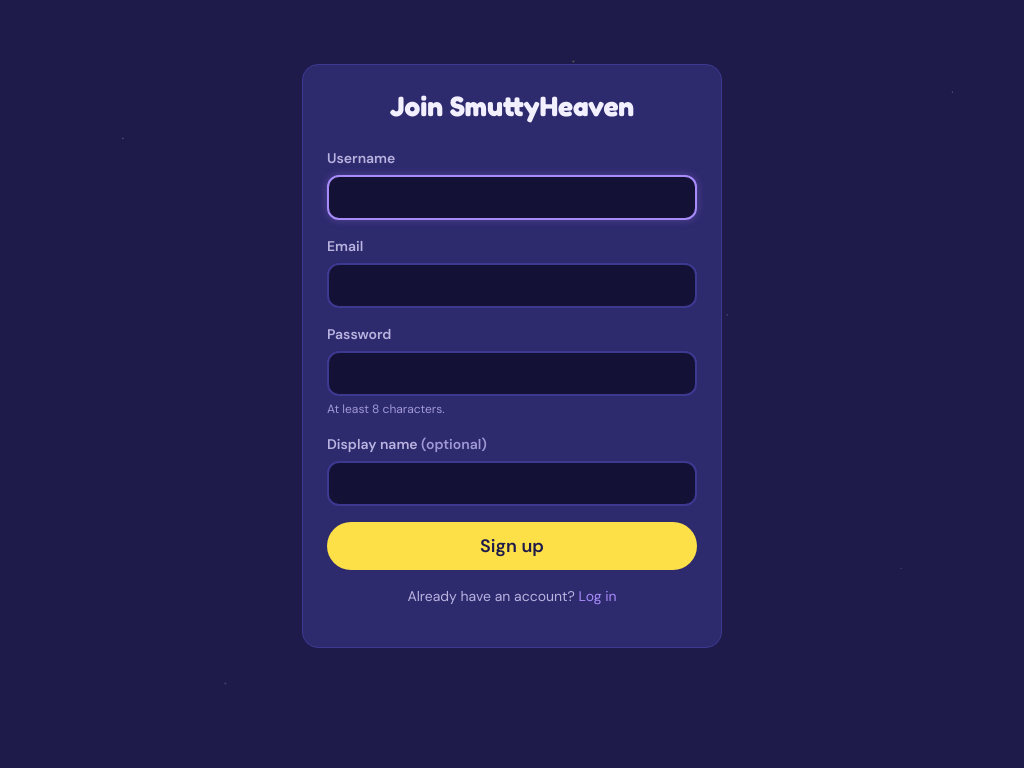
Test: RegisterPage validation › rejects usernames with characters outside the allowed set
The image size is (1024, 768).
Type "bad!name" into the field labelled "Username".
click(512, 198); type("bad!name")  # box [327,175,697,220]
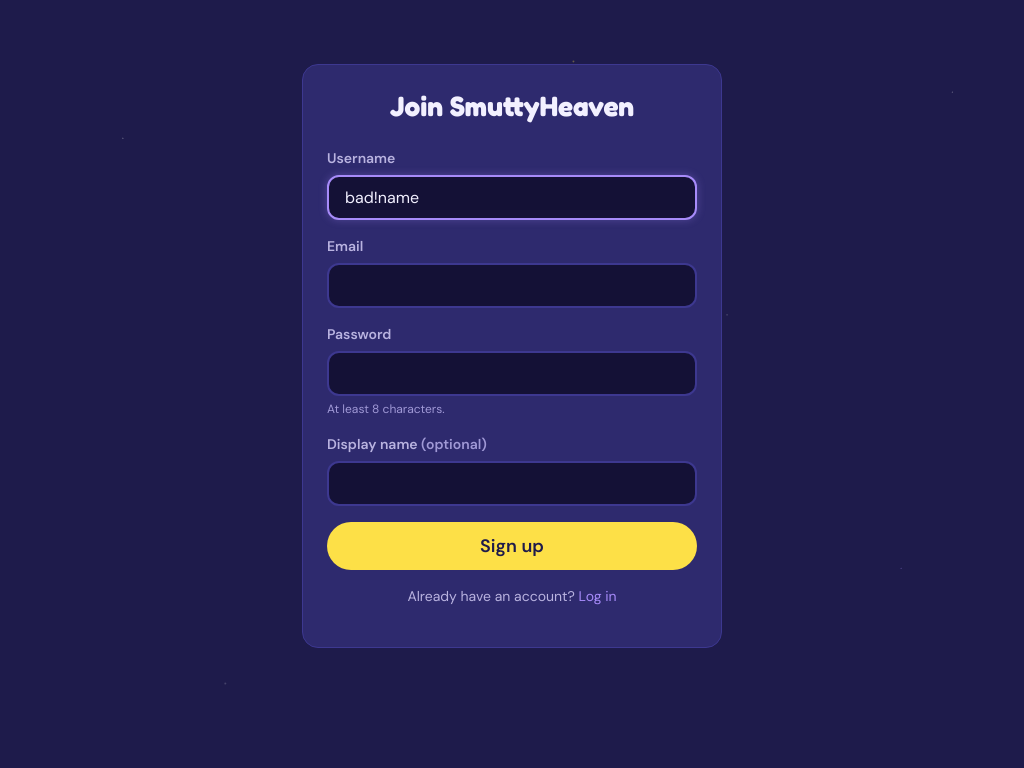
Type "reader@example.com" into the field labelled "Email".
click(512, 286); type("reader@example.com")  # box [327,263,697,308]
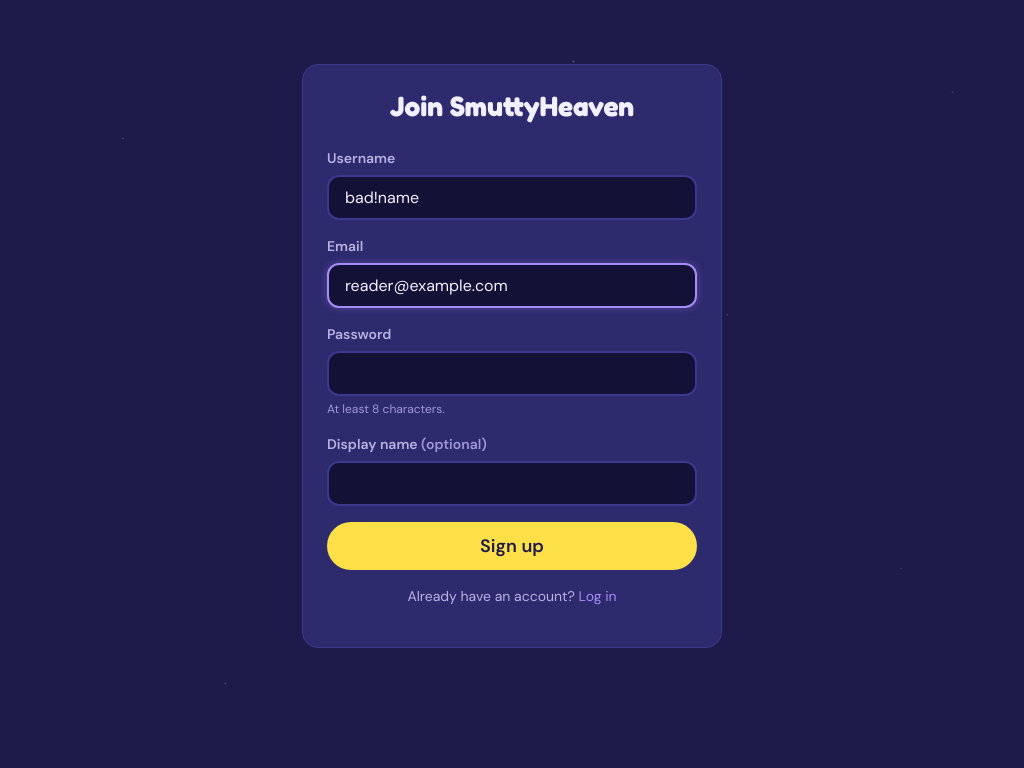
Type "long-enough" into the password field labelled "Password".
click(512, 374); type("long-enough")  # box [327,351,697,396]
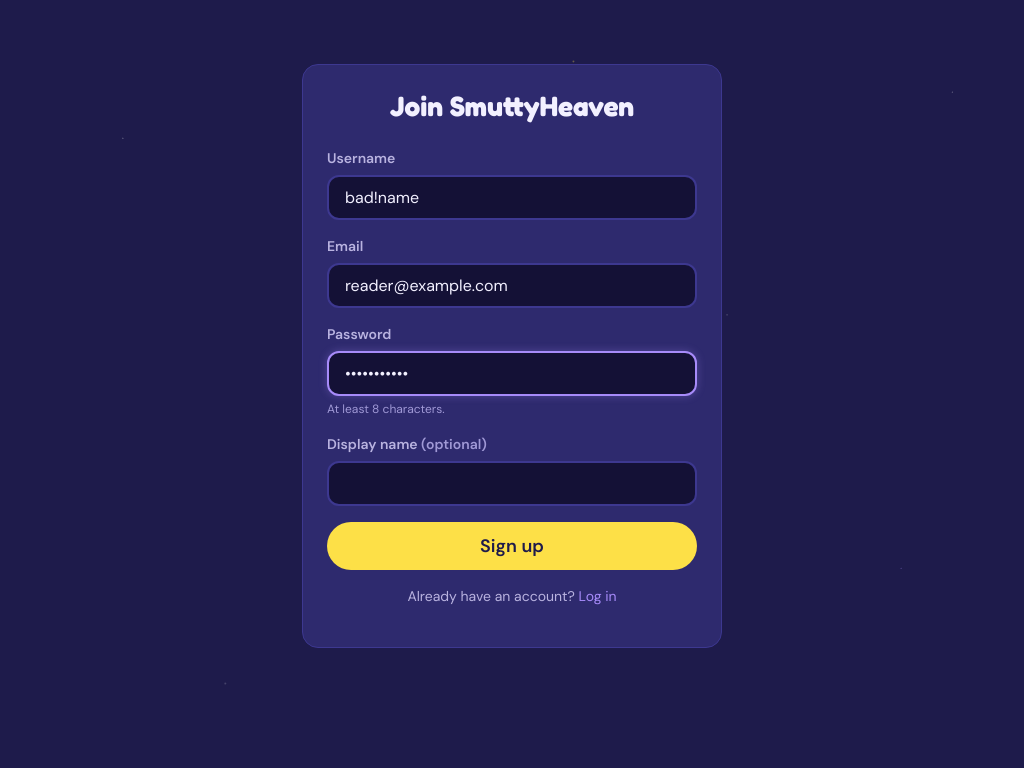
Click the button "Sign up".
click(512, 546)  # box [327,522,697,570]
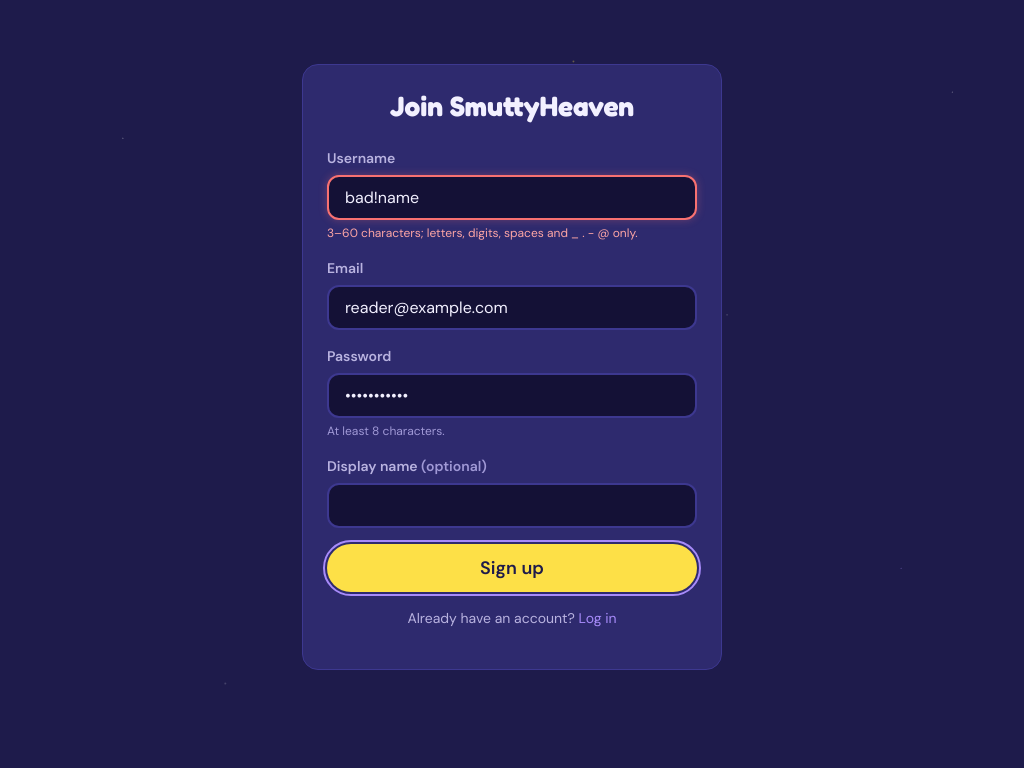
expect the text "3–60 characters; letters, digits, spaces and _ . - @ only." is shown: met, box [327,225,638,241]
